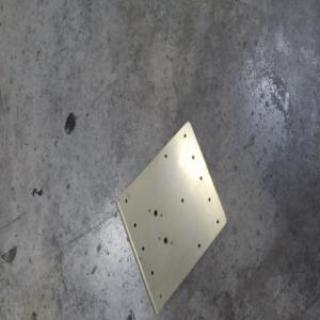MetalSheettrack_idkeyframe: (114, 119, 226, 315)
